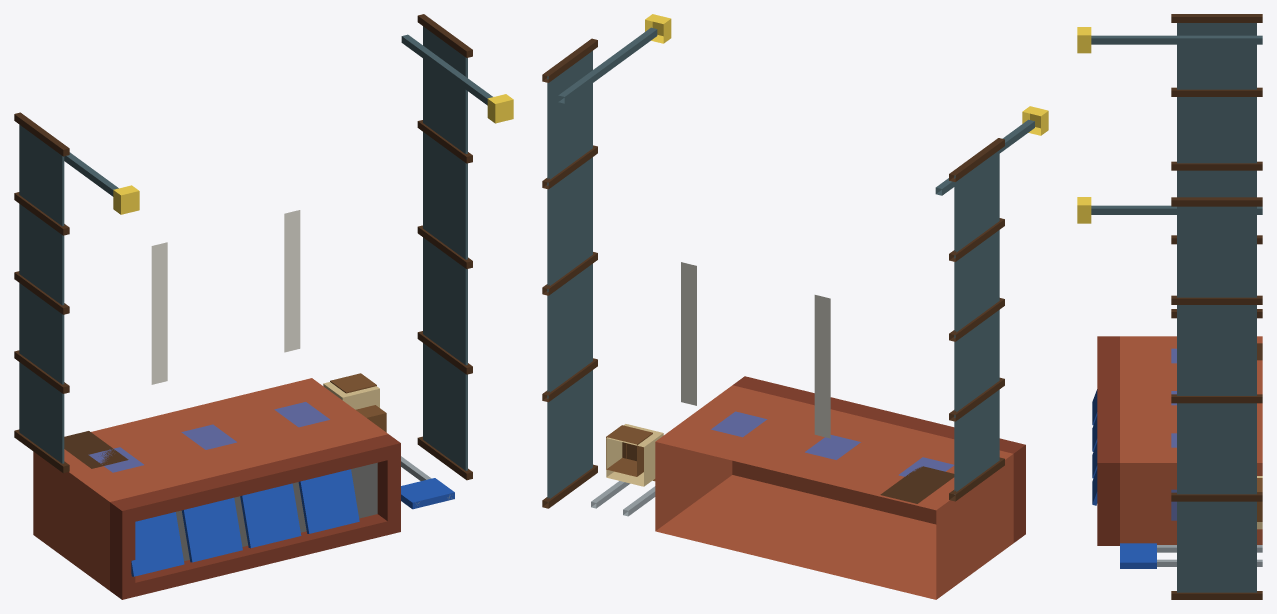
The picture shows the model from 3 angles, left to right: view 1: azimuth 30°, elevation 25°; view 2: azimuth 150°, elevation 25°; view 3: azimuth 270°, elevation 25°; orthographic projection. The views are drawn at different scales.
Visible parts, largest first — view 1: stop_truck_bay_default; view 2: stop_truck_bay_default; view 3: stop_truck_bay_default.
Part boxes in pixels (x1,y1,x2,y2): stop_truck_bay_default: (14,14,513,599); stop_truck_bay_default: (542,14,1048,599); stop_truck_bay_default: (1077,14,1262,599).
Bounding box in the file's own units: 15.44 × 15.44 × 6.5.
